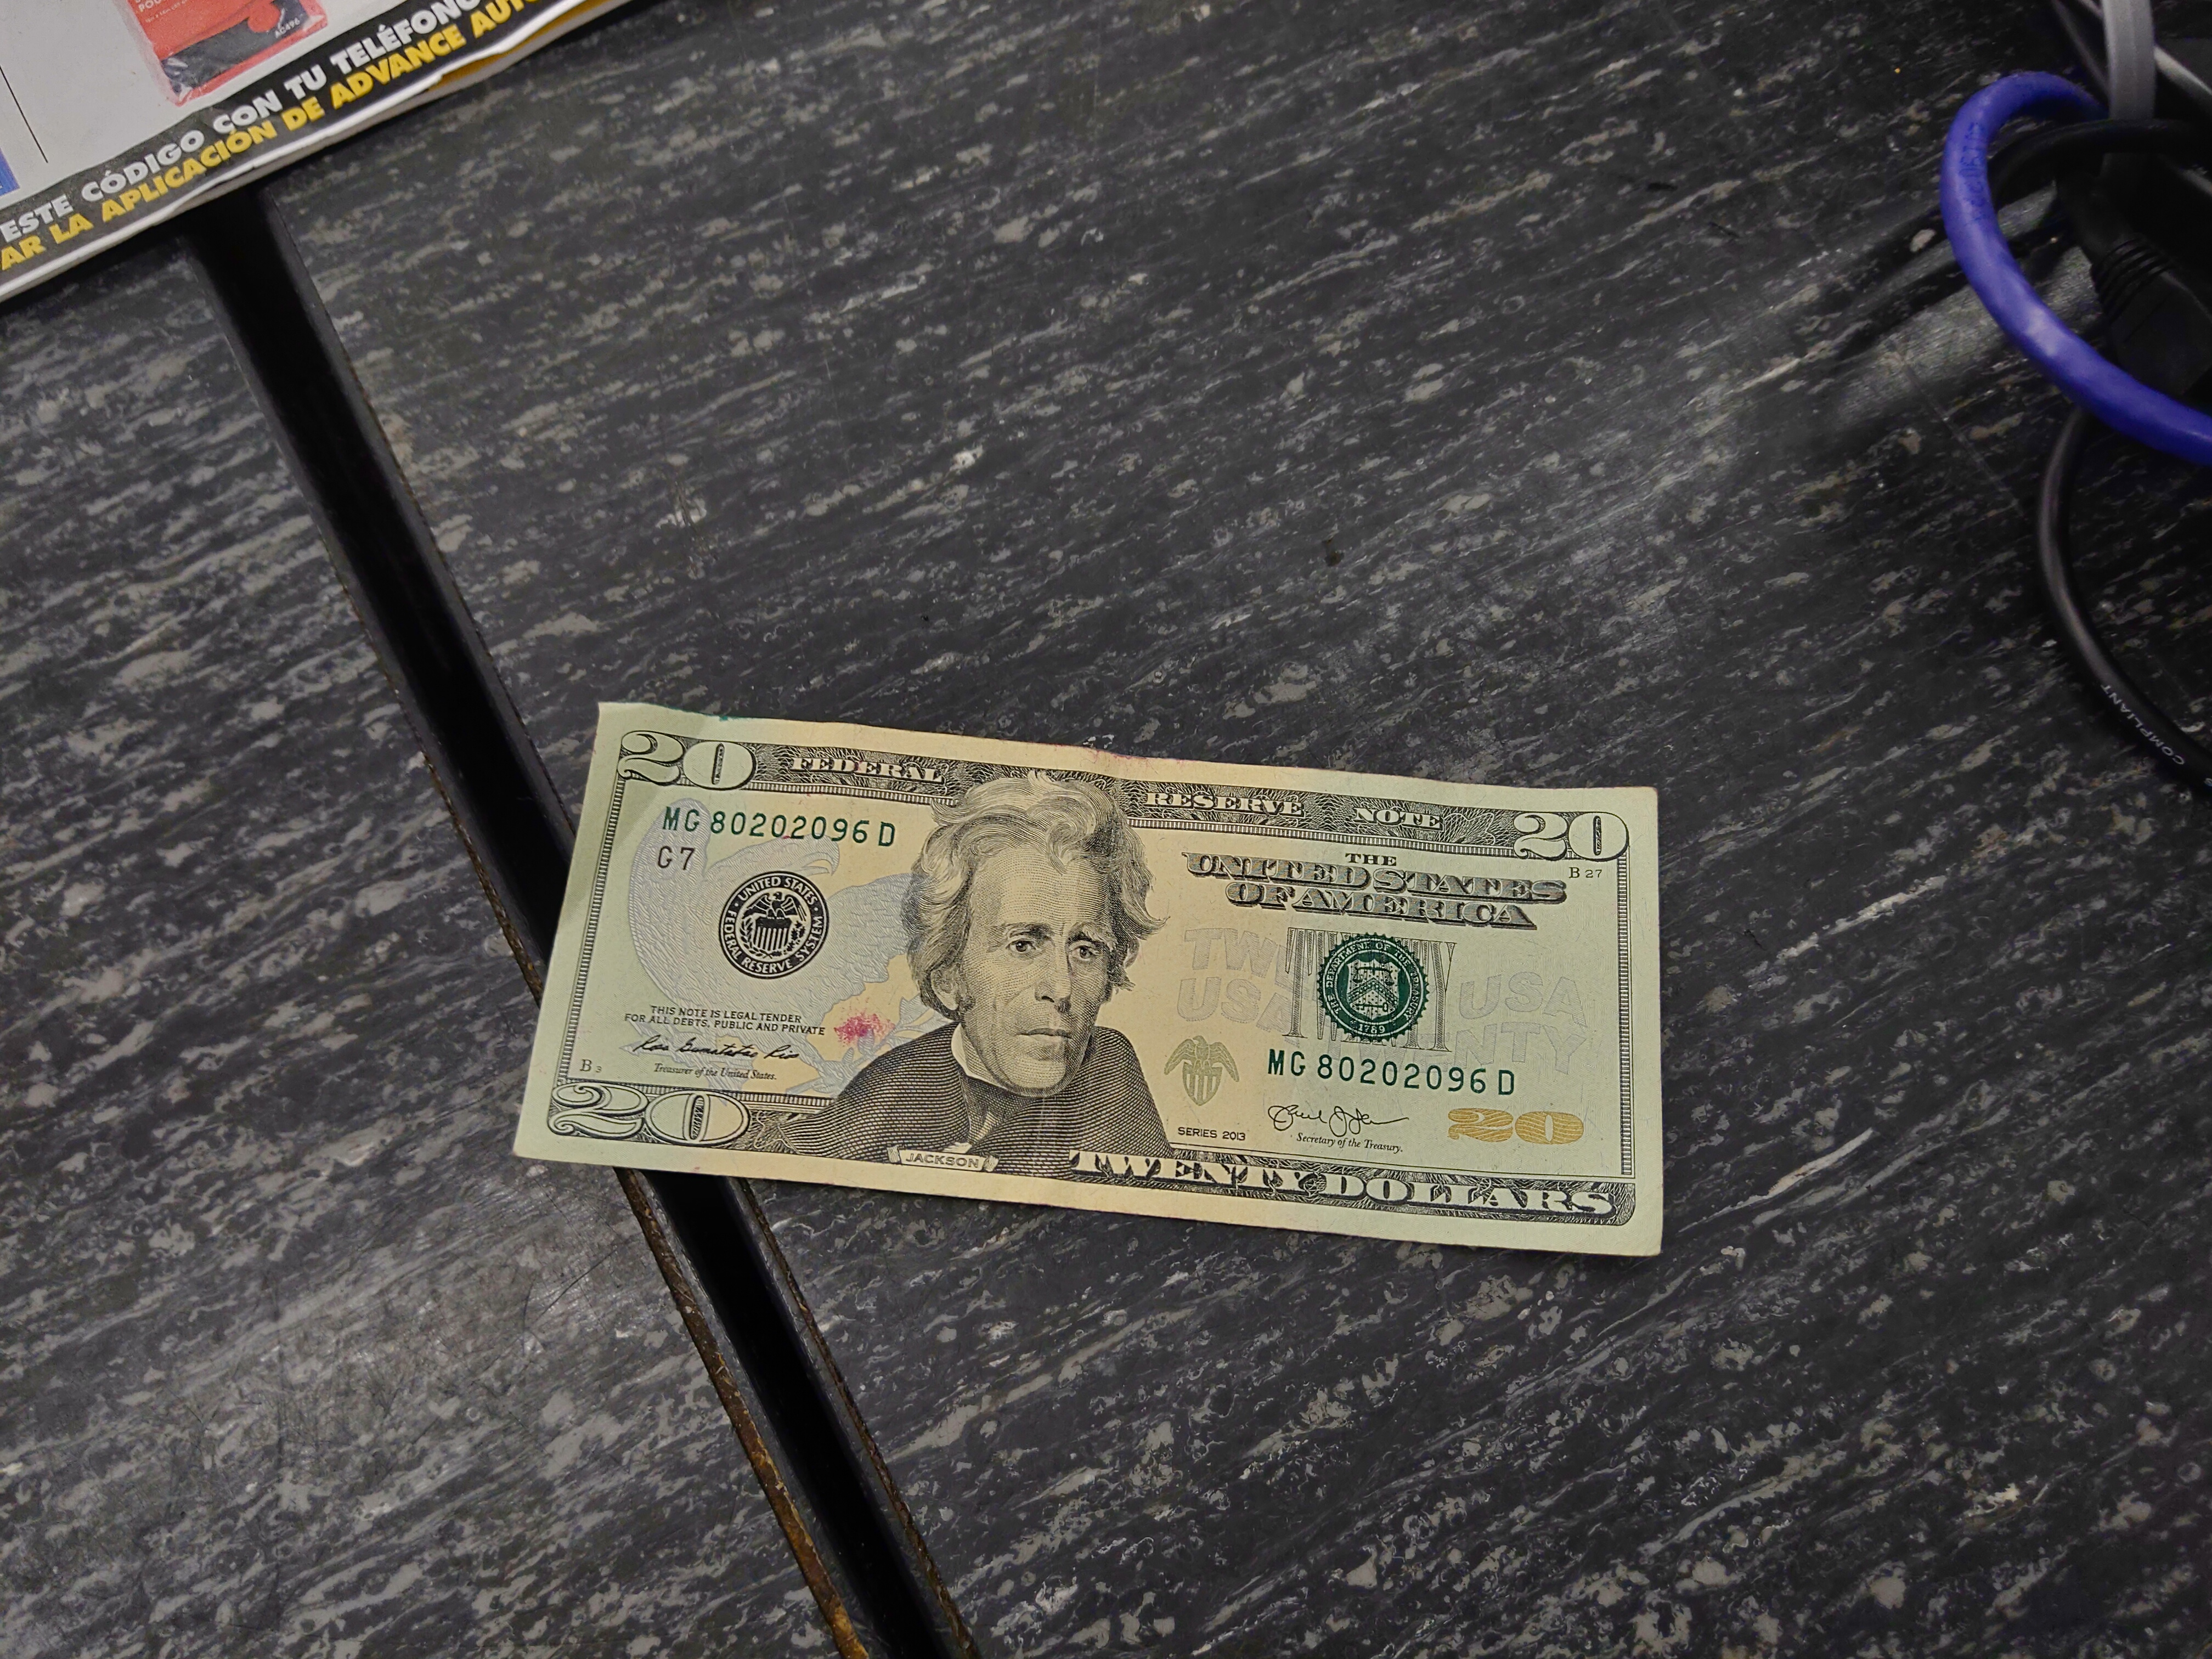TwentyBill: (514, 699, 1667, 1265)
